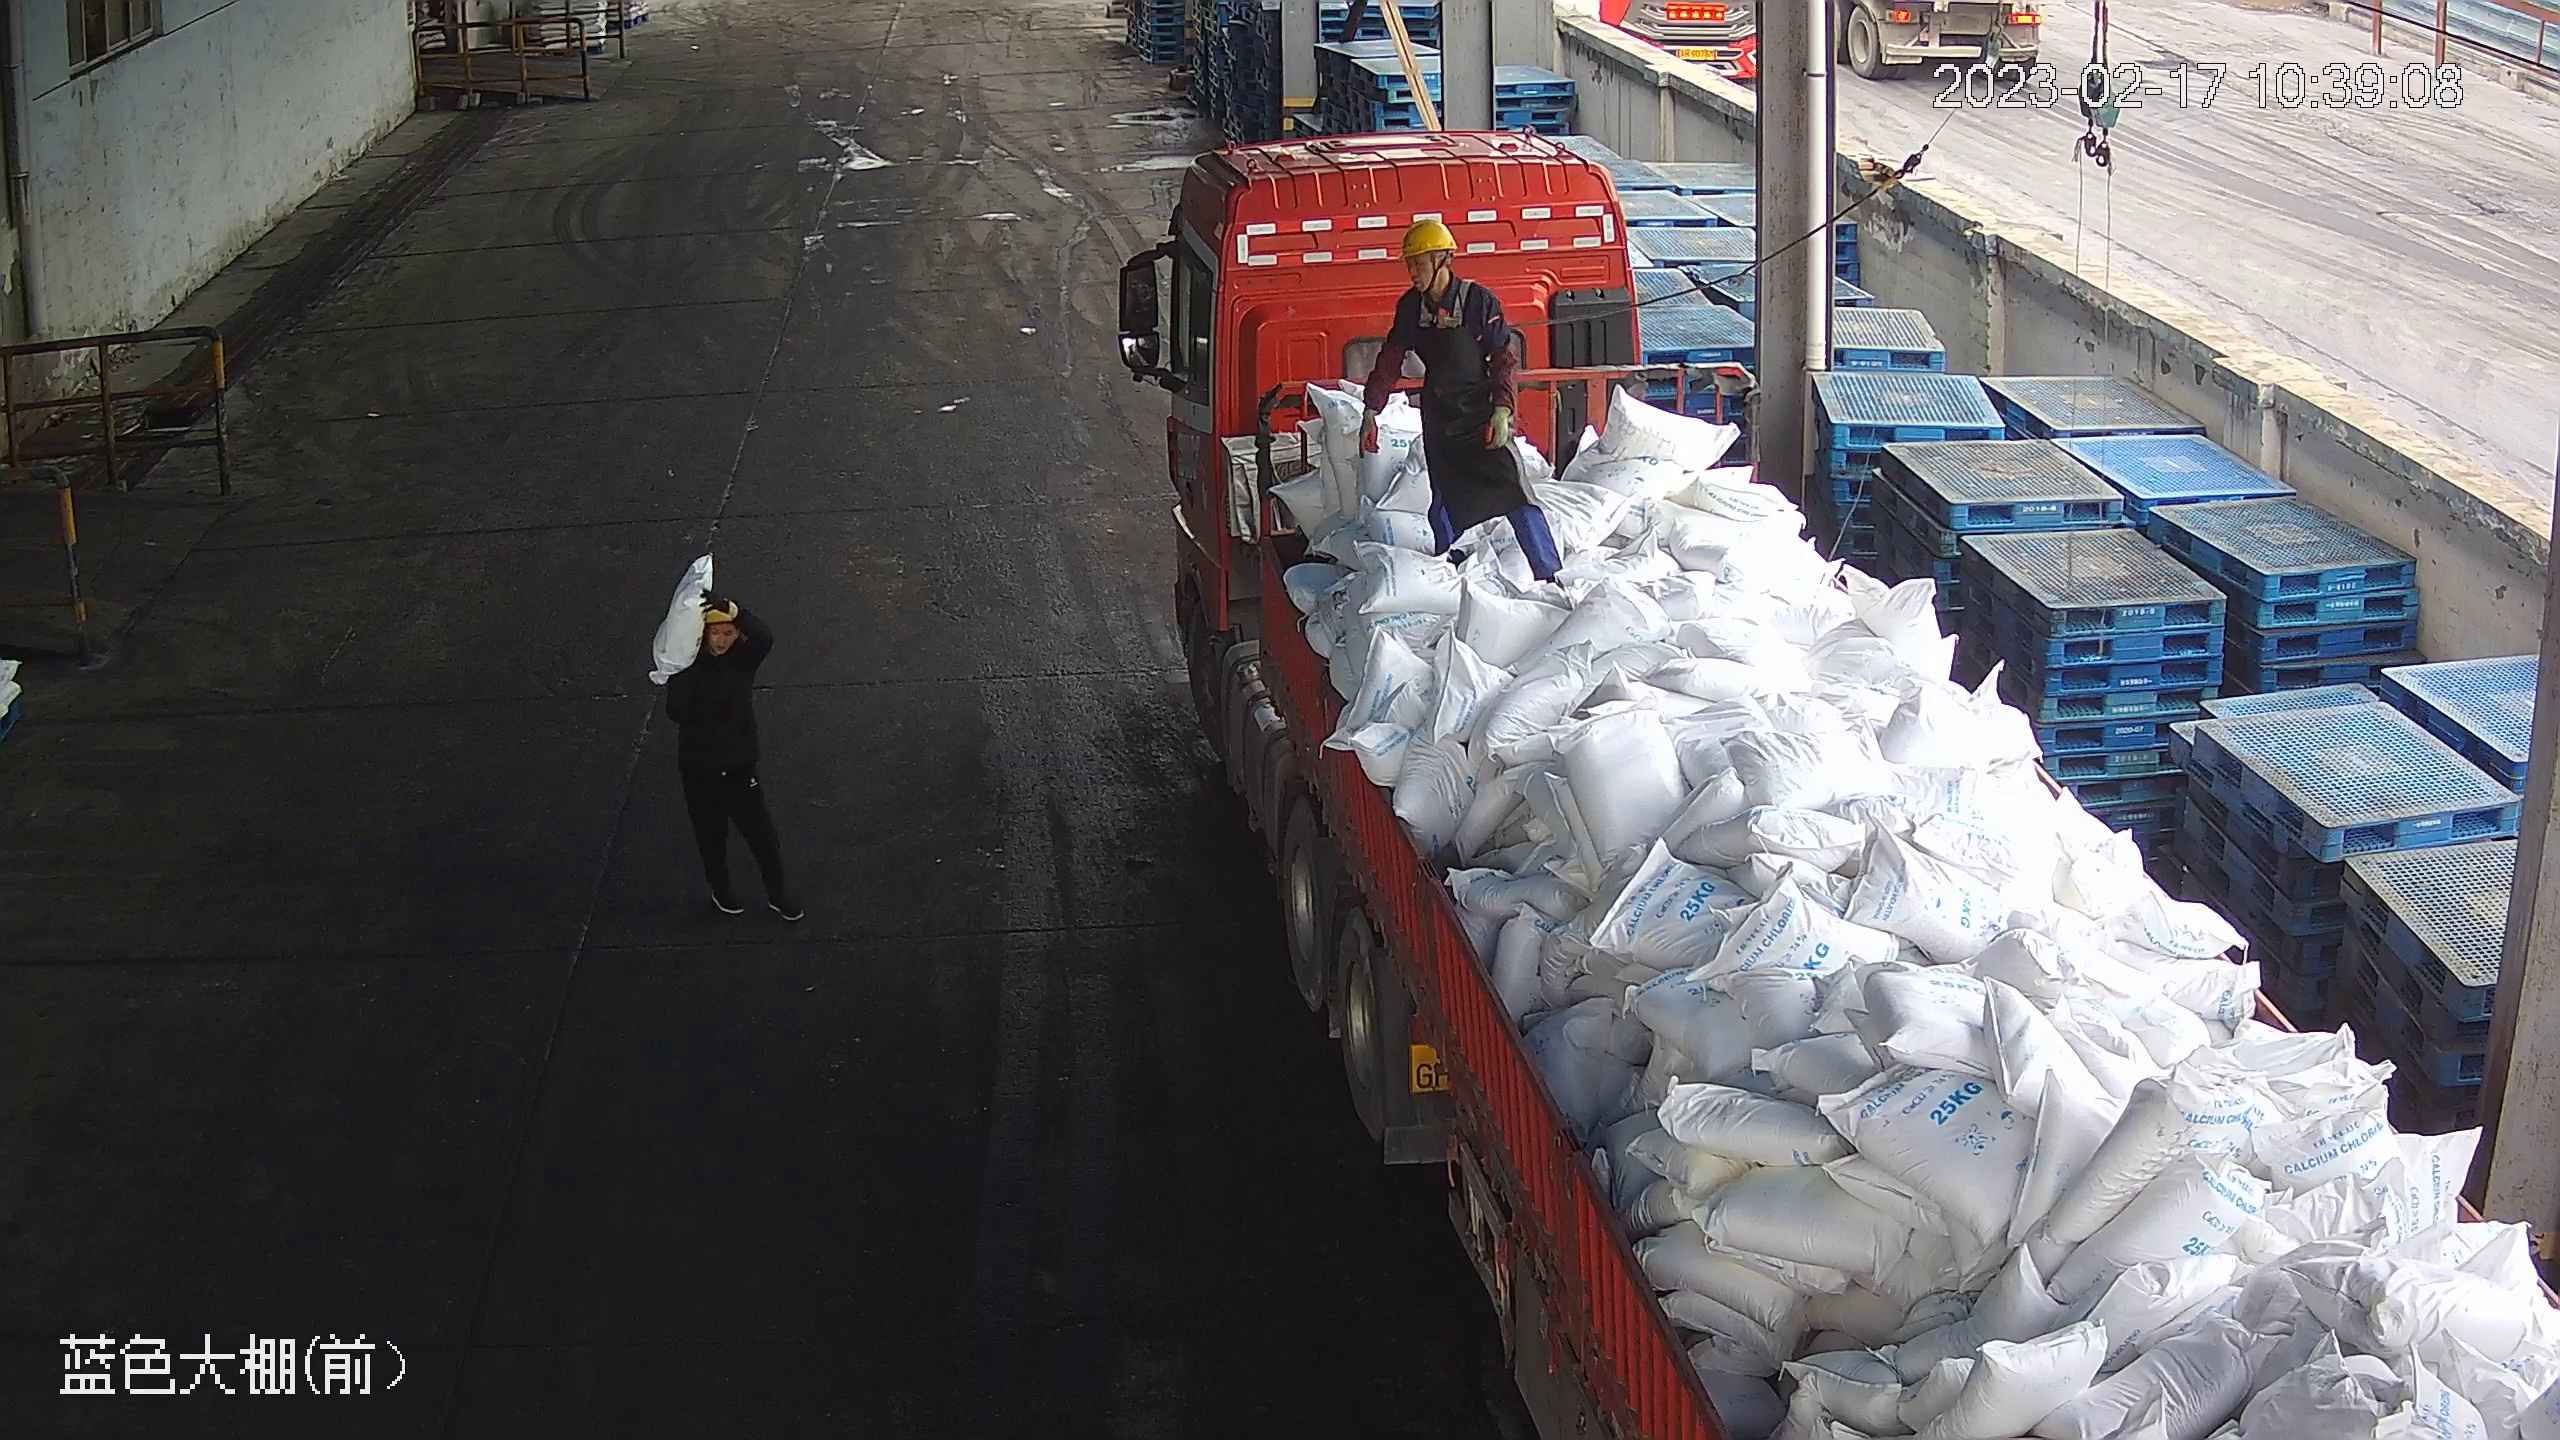belt: (1408, 271, 1498, 338)
head: (1392, 214, 1498, 326), (670, 594, 765, 692)
helmet: (1397, 213, 1457, 256), (690, 589, 732, 626)
people: (1360, 214, 1567, 589), (651, 582, 807, 921)
truck: (1116, 125, 2558, 1439)
